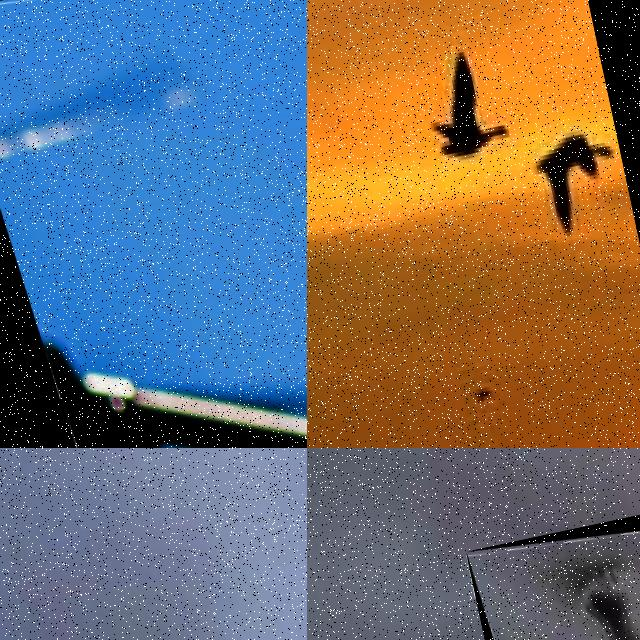drone: (0, 0, 307, 448), (0, 448, 307, 640), (465, 487, 640, 640)
